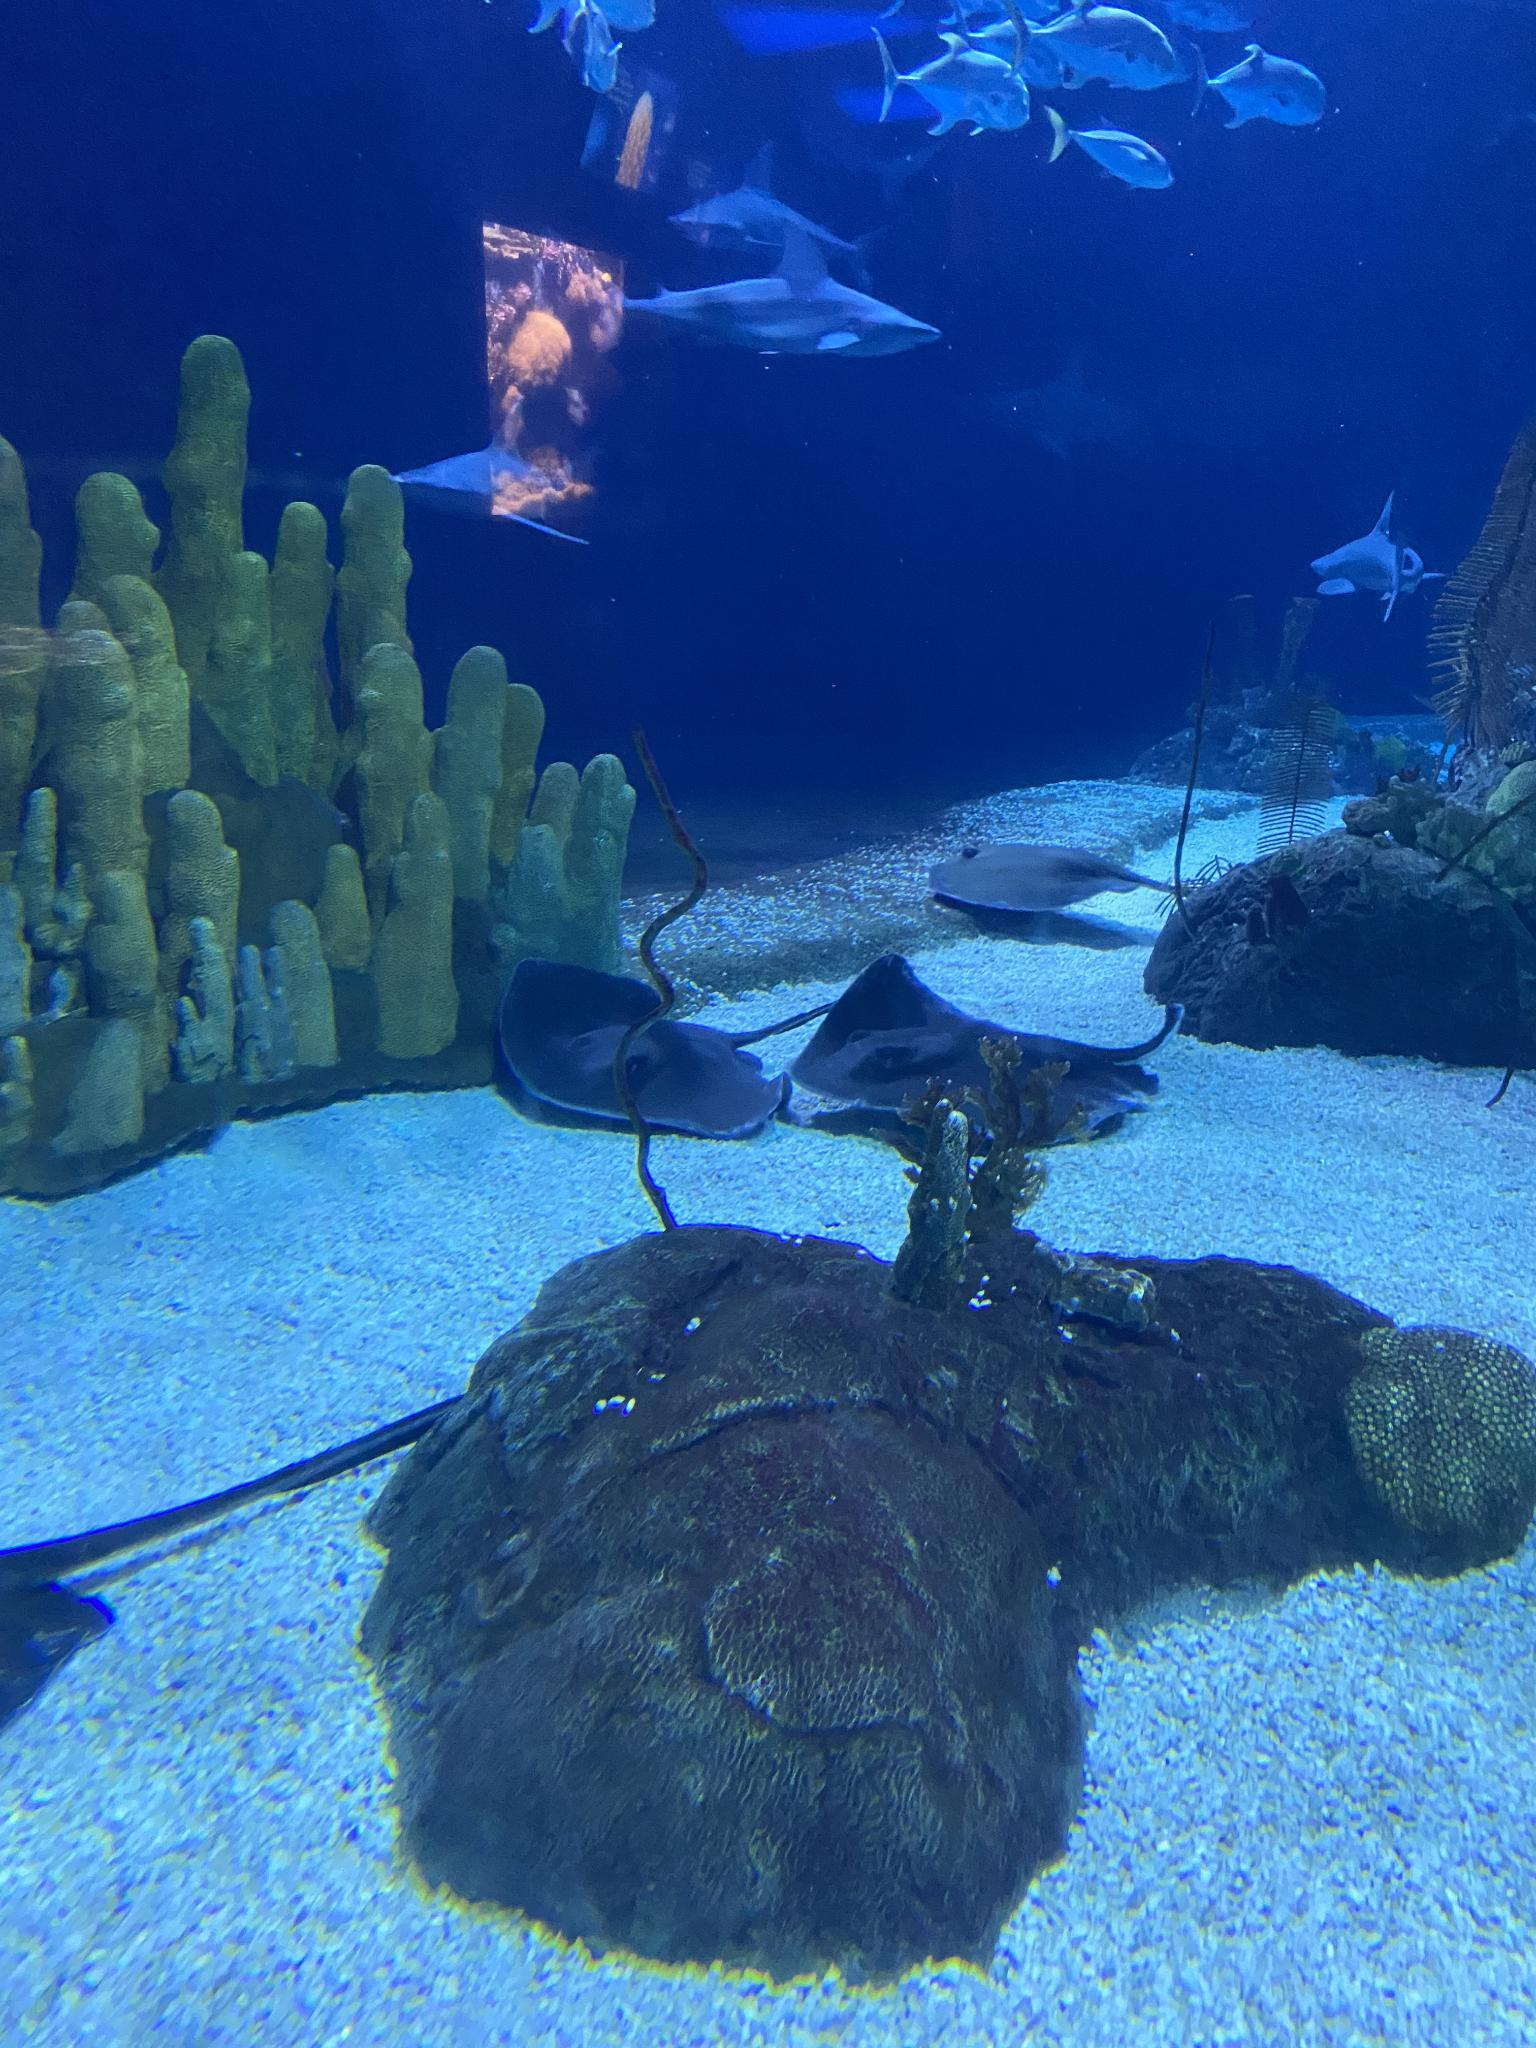fish: (871, 47, 1042, 137), (920, 19, 1079, 103), (1016, 19, 1186, 98), (1204, 55, 1334, 132), (1079, 129, 1181, 190), (1147, 0, 1263, 53), (555, 19, 632, 95)
shark: (615, 245, 944, 369), (369, 434, 615, 537), (987, 373, 1141, 460), (1317, 519, 1444, 619)
stingray: (792, 964, 1158, 1169), (481, 959, 784, 1148), (0, 1535, 144, 1748), (921, 826, 1139, 942)
